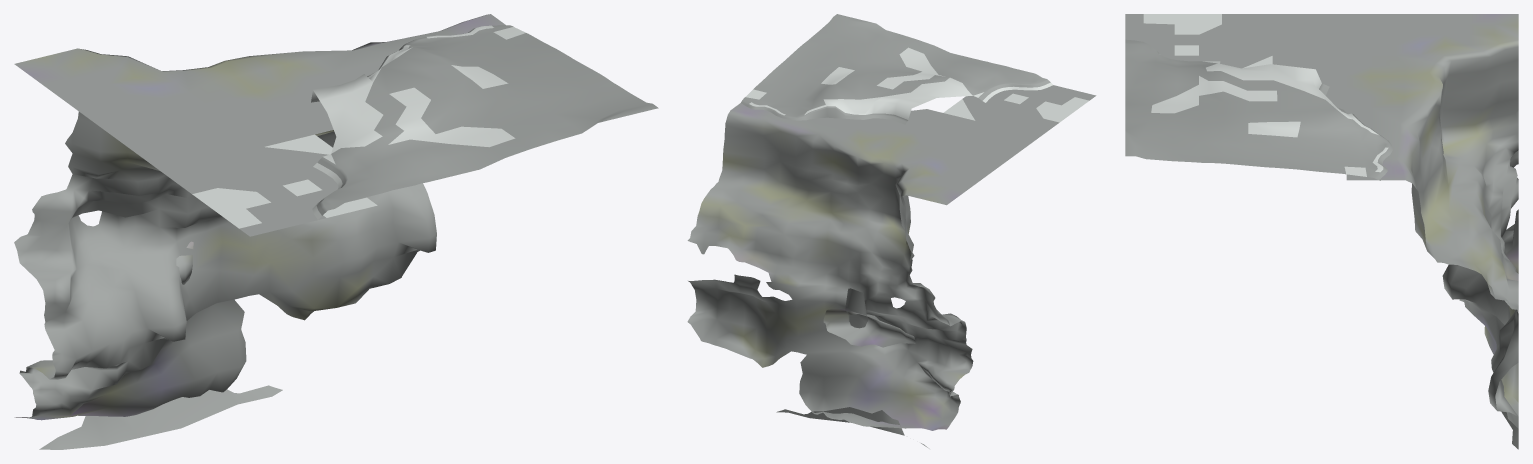
The picture shows the model from 3 angles, left to right: view 1: azimuth 30°, elevation 25°; view 2: azimuth 150°, elevation 25°; view 3: azimuth 270°, elevation 25°; orthographic projection. The views are drawn at different scales.
Parts seen in each view (by area): view 1: G:\FFXIV-MapTools\exports\y6f2\bg\ex5\02_ykt_y6\fld\y6f2\bgp (×11); view 2: G:\FFXIV-MapTools\exports\y6f2\bg\ex5\02_ykt_y6\fld\y6f2\bgp (×12); view 3: G:\FFXIV-MapTools\exports\y6f2\bg\ex5\02_ykt_y6\fld\y6f2\bgp (×12).
Boxes of the visible parts, bbox=[...] form: G:\FFXIV-MapTools\exports\y6f2\bg\ex5\02_ykt_y6\fld\y6f2\bgp (×11): bbox=[14, 14, 658, 449]; G:\FFXIV-MapTools\exports\y6f2\bg\ex5\02_ykt_y6\fld\y6f2\bgp (×12): bbox=[687, 14, 1096, 448]; G:\FFXIV-MapTools\exports\y6f2\bg\ex5\02_ykt_y6\fld\y6f2\bgp (×12): bbox=[1125, 14, 1518, 449].
Size of the model in its own units: 128 by 126 by 128.
